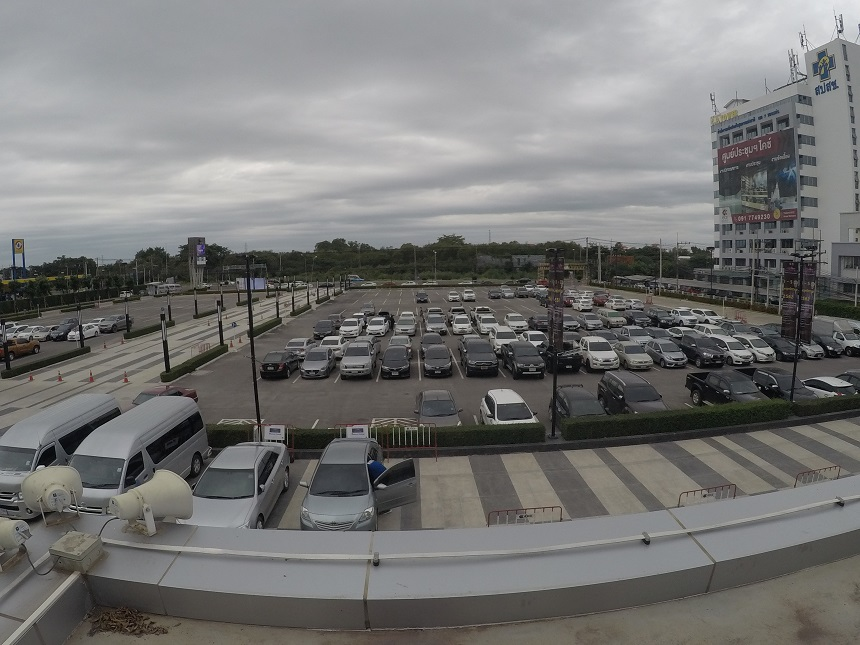busy: (302, 467, 380, 520), (203, 473, 269, 515), (95, 449, 169, 484), (609, 381, 664, 412), (26, 425, 77, 457), (480, 394, 534, 418), (552, 393, 601, 416), (142, 383, 190, 405), (421, 394, 460, 420), (704, 380, 754, 399), (462, 351, 499, 376), (338, 357, 372, 380), (511, 356, 545, 379), (259, 354, 291, 376), (552, 349, 582, 372), (807, 374, 840, 394), (622, 350, 655, 369), (763, 372, 792, 393), (694, 348, 726, 367), (380, 357, 410, 377), (587, 350, 617, 370), (424, 357, 457, 375), (302, 356, 329, 376), (663, 349, 687, 368), (799, 341, 823, 358), (730, 348, 751, 362), (780, 344, 799, 359), (844, 370, 860, 386), (755, 349, 775, 360), (847, 338, 860, 351), (826, 345, 840, 355)
